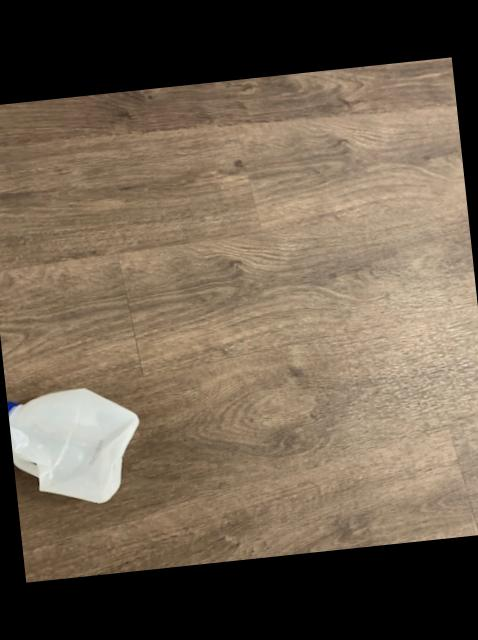plastic: (8, 390, 139, 504)
